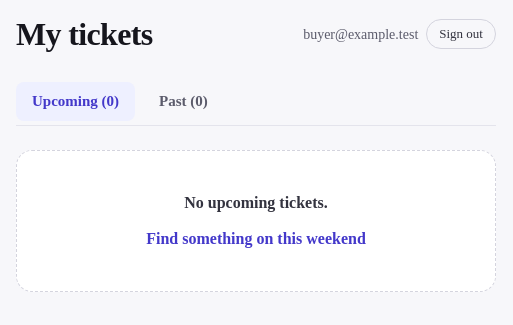
Scenario: MyTicketsClient (S2-4) › signed-in view (Row 4.1 & 4.7) › signs out and returns to lookup view
Click the button "Sign out" at (461, 34), box [426,19,496,49]
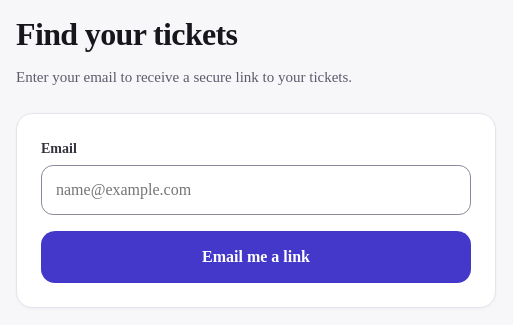
Check: the heading "Find your tickets" is shown, box [16,16,237,52]
